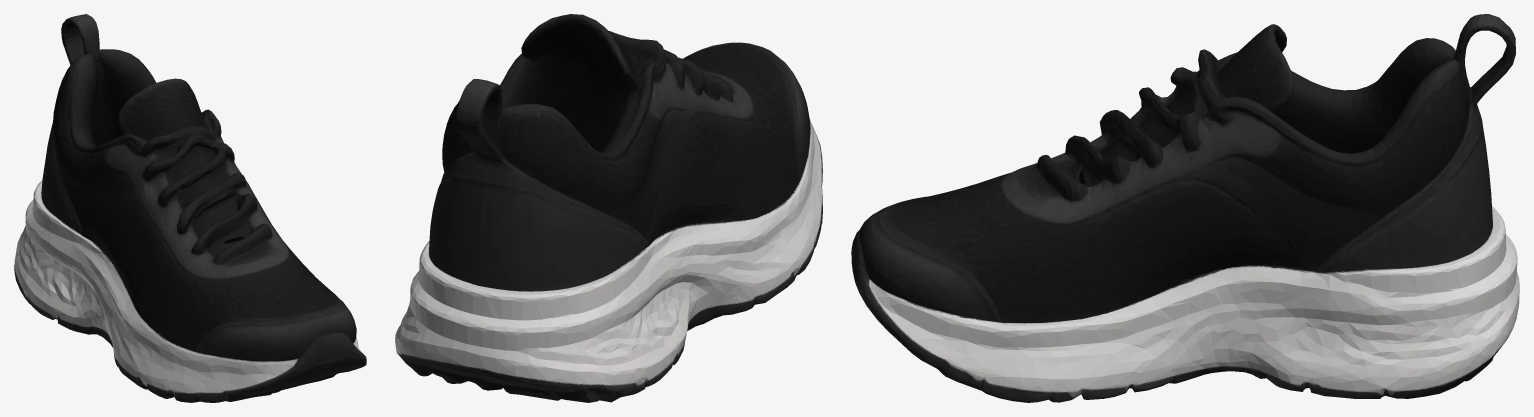
File: runner-mono.glb
3 renders of one model, left to right at view 1: azimuth 30°, elevation 25°; view 2: azimuth 150°, elevation 25°; view 3: azimuth 270°, elevation 25°, orthographic. The views are drawn at different scales.
Parts seen in each view (by area): view 1: geometry_0; view 2: geometry_0; view 3: geometry_0.
Boxes of the visible parts, x1,y1,x2,y2 form: geometry_0: (14,14,366,402); geometry_0: (395,14,822,402); geometry_0: (851,14,1519,402).
Bounding box in the file's own units: 0.4222 × 0.542 × 0.9987.
Materials: 1 (1 with a texture image).
